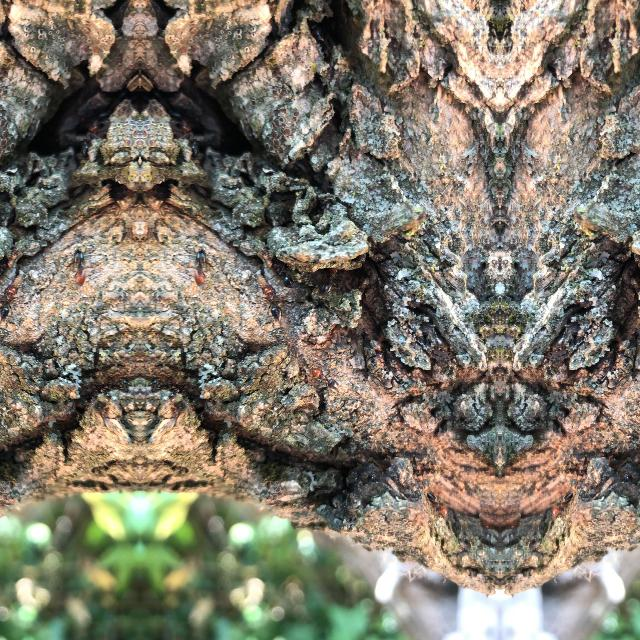Crematogaster: (188, 247, 218, 290), (62, 247, 92, 290), (308, 366, 340, 392), (264, 276, 282, 320), (0, 276, 16, 319), (322, 263, 342, 297), (270, 273, 294, 289), (0, 273, 10, 289)
